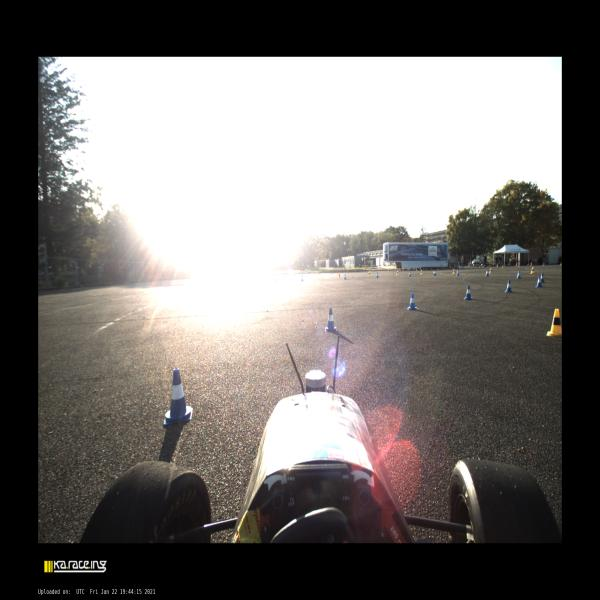blue_cone: (164, 368, 193, 424), (325, 308, 337, 331), (408, 293, 418, 310), (464, 285, 474, 300), (504, 280, 512, 292), (536, 276, 543, 288), (540, 273, 546, 282), (516, 270, 521, 279), (485, 270, 490, 276), (456, 269, 460, 276), (433, 270, 436, 276), (408, 271, 411, 277), (376, 272, 379, 278), (344, 274, 347, 279), (301, 276, 304, 281), (318, 271, 320, 274), (479, 266, 481, 269), (527, 264, 529, 266), (442, 268, 444, 270), (276, 278, 277, 281), (399, 269, 400, 272), (373, 270, 374, 272), (347, 271, 348, 273), (423, 268, 424, 270), (464, 266, 464, 269), (332, 272, 332, 274)
large_orange_cone: (516, 262, 518, 266), (531, 262, 532, 266)
yellow_cone: (546, 309, 562, 336), (530, 266, 534, 274), (489, 268, 492, 274), (452, 269, 455, 274), (368, 271, 370, 277), (396, 270, 398, 276), (420, 270, 423, 274), (496, 264, 499, 268), (338, 274, 340, 278), (502, 264, 504, 268), (560, 262, 562, 265), (542, 263, 544, 266), (518, 264, 520, 267), (387, 269, 389, 272), (355, 270, 356, 274), (336, 272, 338, 274), (485, 266, 487, 268), (294, 274, 296, 276), (416, 268, 417, 271), (302, 273, 303, 276), (318, 272, 319, 275), (437, 268, 438, 270), (469, 267, 470, 269), (489, 265, 490, 267)
